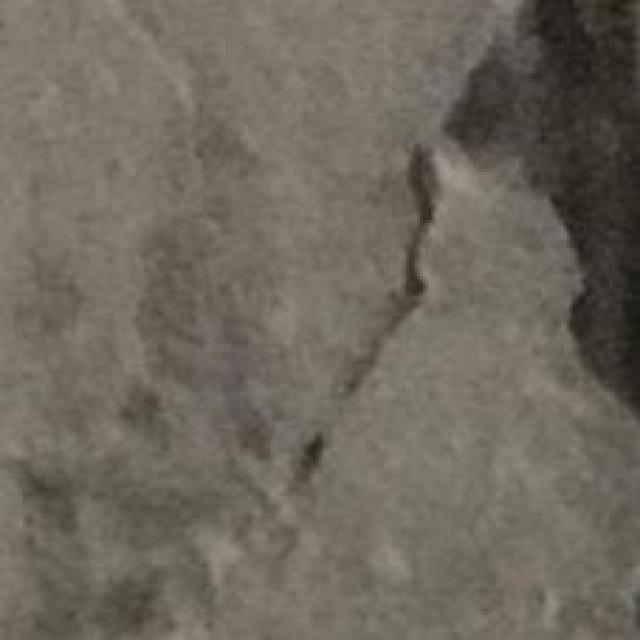Crack: (288, 141, 437, 502)
